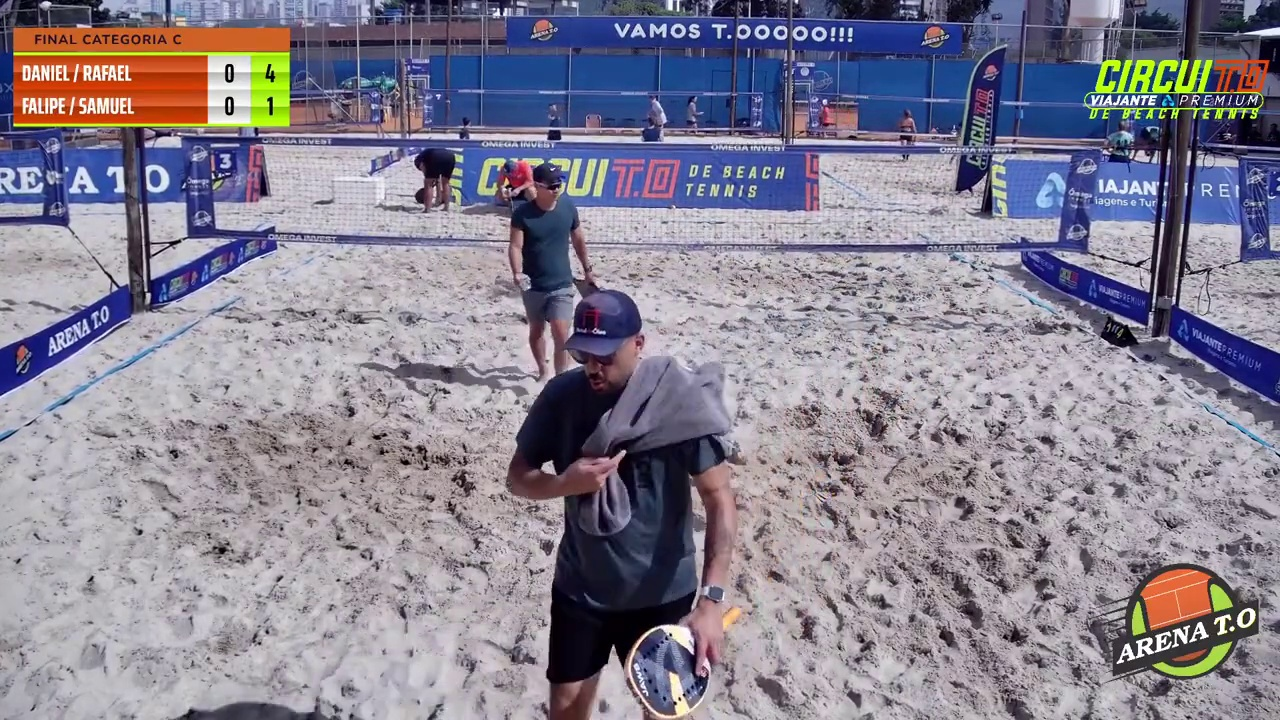court_line: (642, 0, 807, 404)
